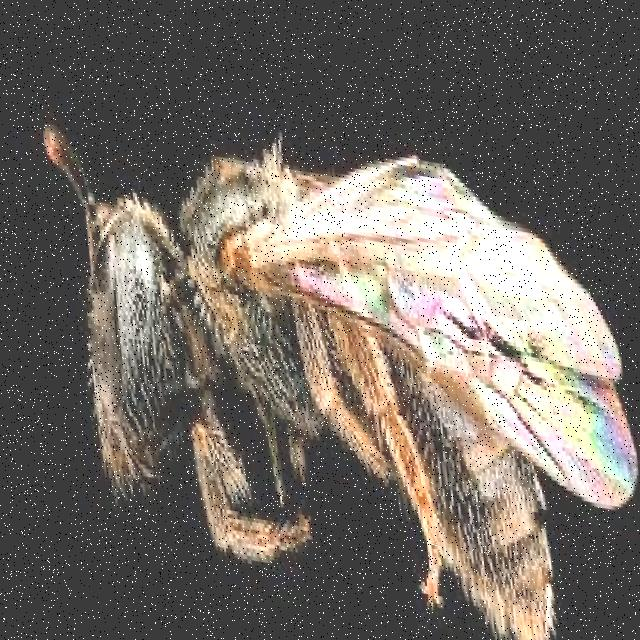Lasioglossum: (19, 44, 620, 640)
